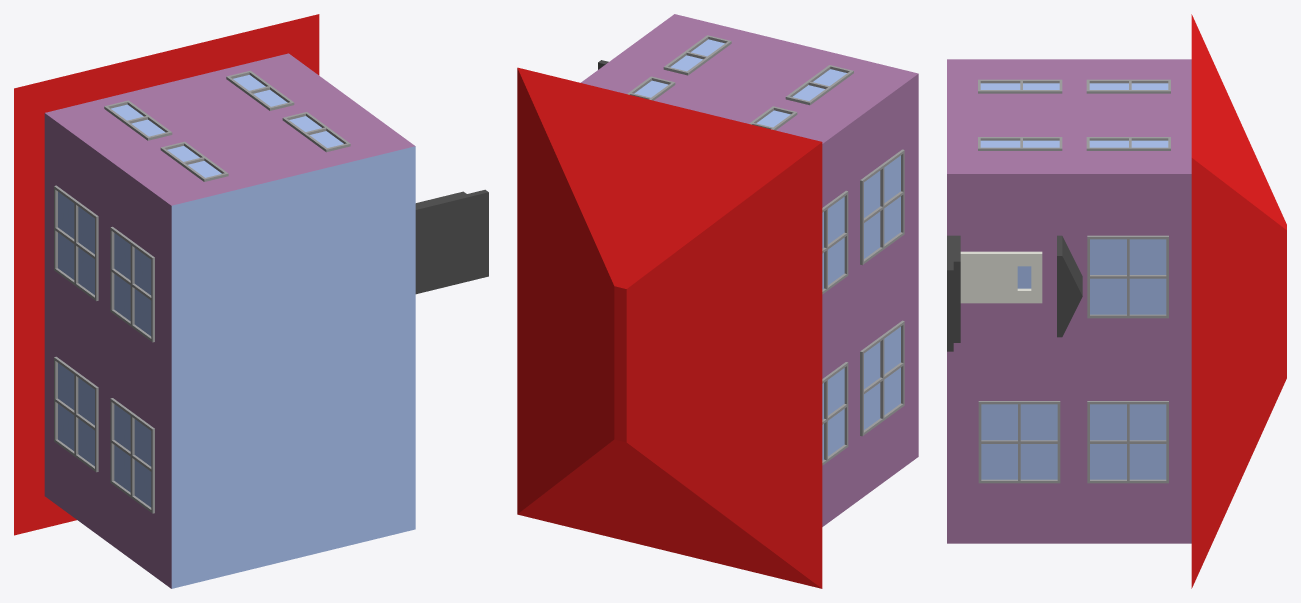
Rendered from villa1-2.fbx.
3 renders of one model, left to right at view 1: azimuth 30°, elevation 25°; view 2: azimuth 150°, elevation 25°; view 3: azimuth 270°, elevation 25°, orthographic. The views are drawn at different scales.
Visible parts, largest first — view 1: villa1; view 2: villa1; view 3: villa1.
Part boxes in pixels (x1,y1,x2,y2): villa1: (14,14,488,588); villa1: (517,14,918,588); villa1: (947,14,1286,588).
Bounding box in the file's own units: 11.22 × 13.78 × 9.84.
